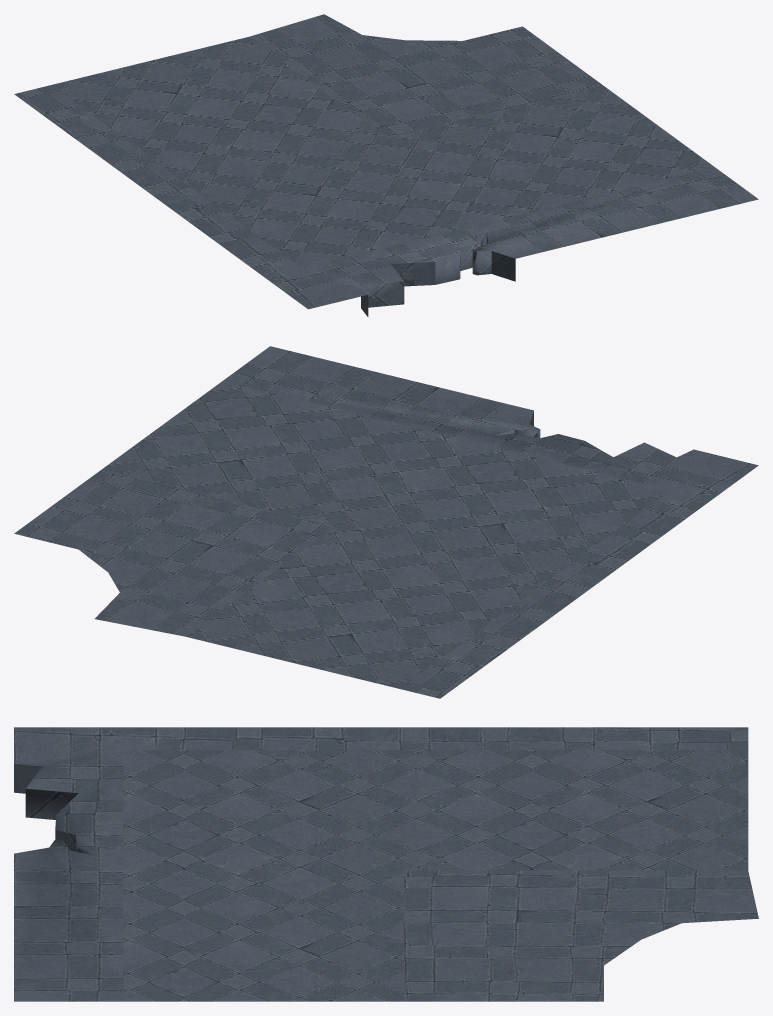
File: tlfb2_dimian02.FBX
3 views of the same model, one above another, from view 1: azimuth 30°, elevation 25°; view 2: azimuth 150°, elevation 25°; view 3: azimuth 270°, elevation 25° (orthographic). The views are drawn at different scales.
Visible parts, largest first — view 1: tlfb2_dimian02; view 2: tlfb2_dimian02; view 3: tlfb2_dimian02.
Part boxes in pixels (x1=…): tlfb2_dimian02: x1=14, y1=14, x2=758, y2=316; tlfb2_dimian02: x1=14, y1=346, x2=758, y2=698; tlfb2_dimian02: x1=14, y1=727, x2=758, y2=1001.
Bounding box in the file's own units: 1269 × 62.36 × 1455.
